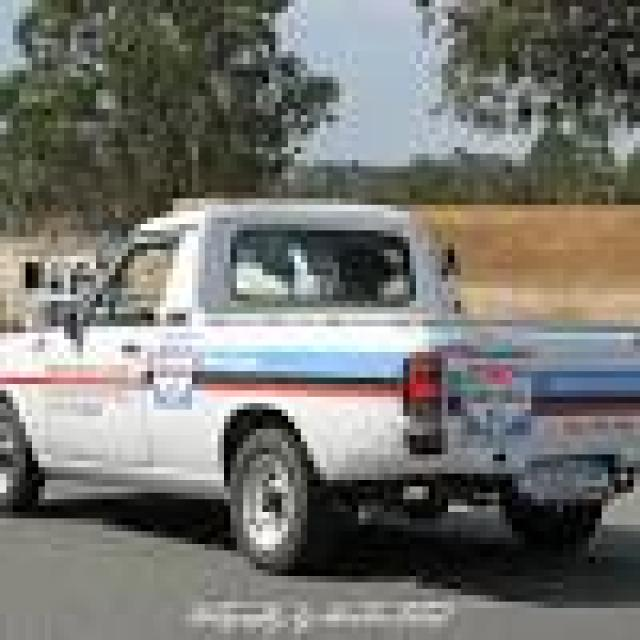Pickup Trucks: (6, 198, 640, 576)
